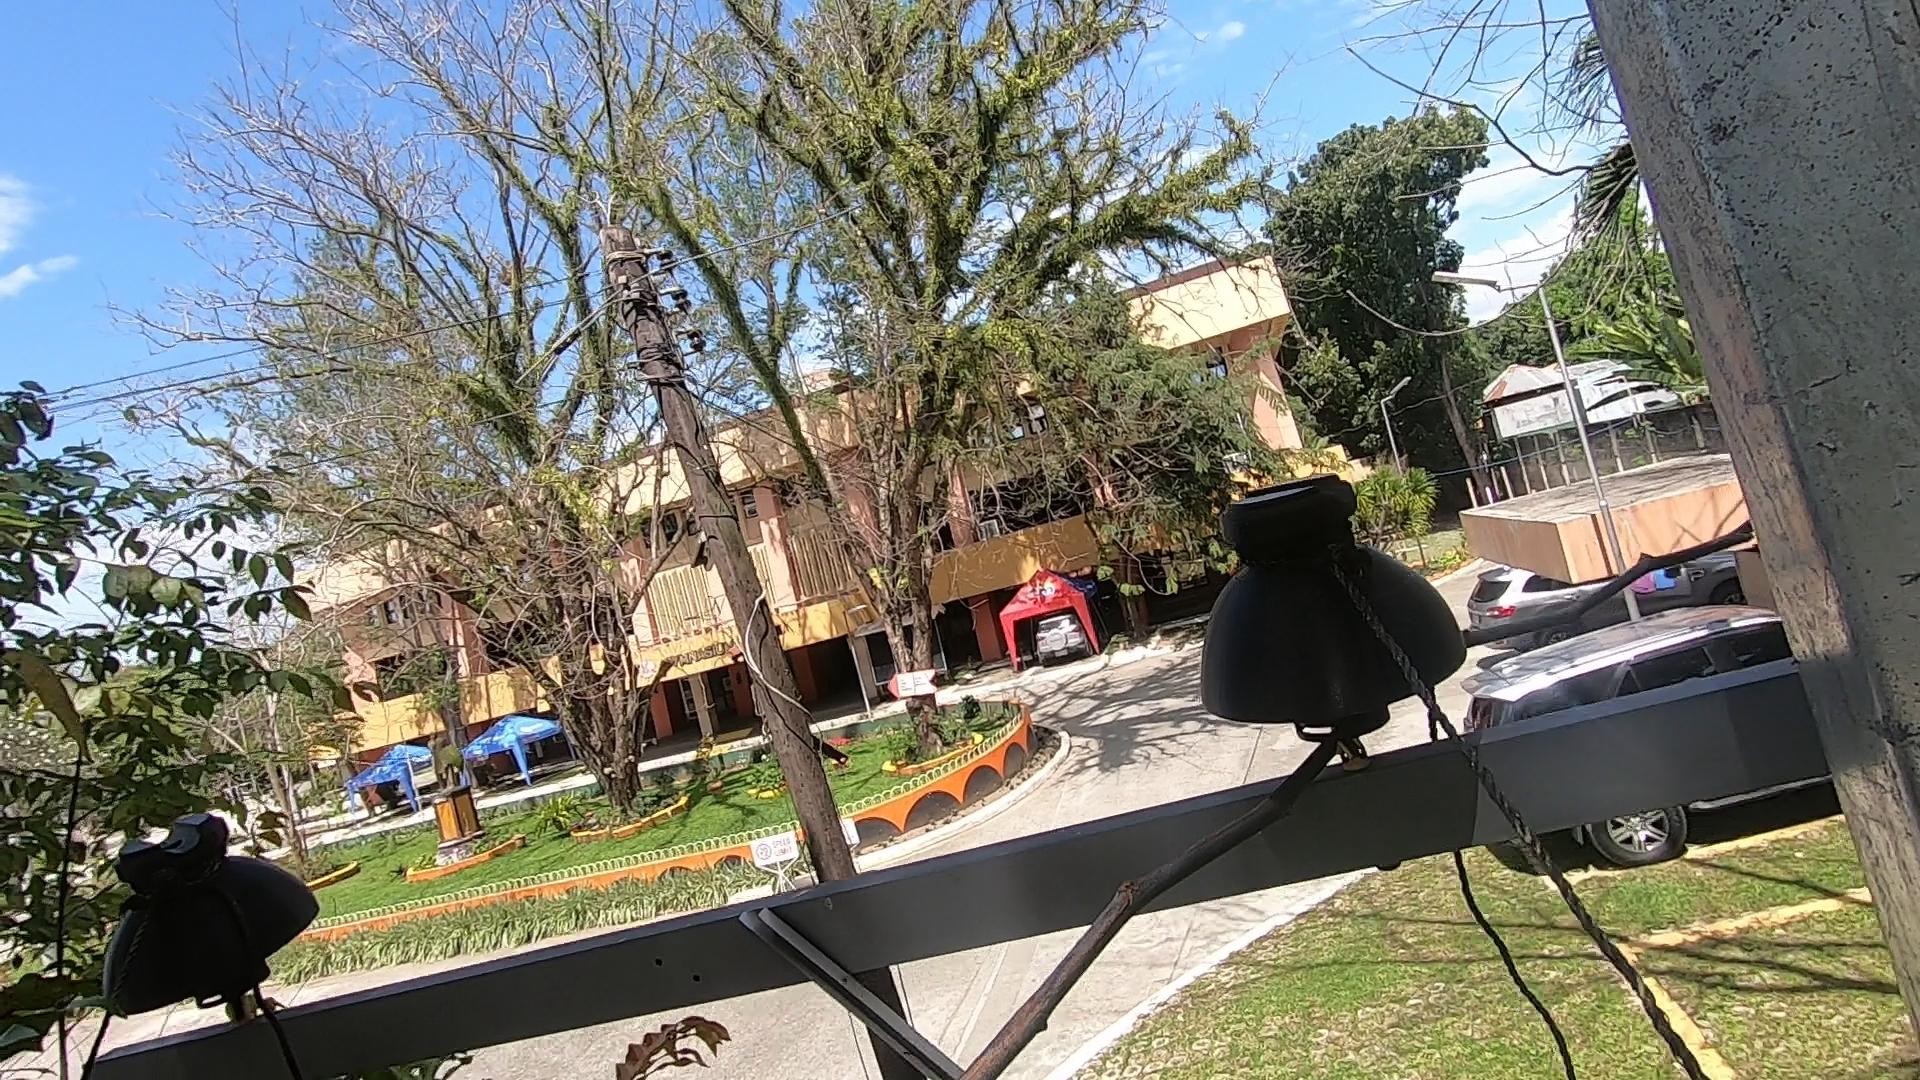tree branch: (855, 534, 1838, 1080)
